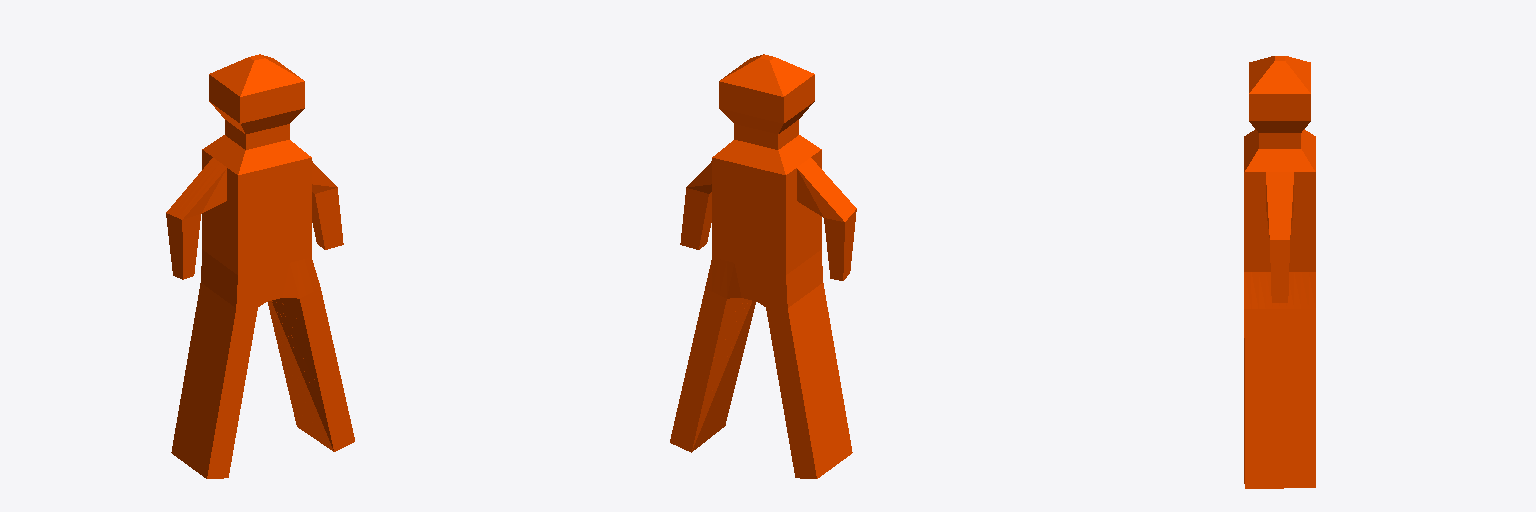
The model's file is HumanMale.obj.
The picture shows the model from 3 angles: view 1: azimuth 30°, elevation 25°; view 2: azimuth 150°, elevation 25°; view 3: azimuth 270°, elevation 25°; orthographic projection.
Visible parts, largest first — view 1: pCube1; view 2: pCube1; view 3: pCube1.
Part boxes in pixels (left/top/right/bottom): pCube1: left=166, top=54, right=354, bottom=478; pCube1: left=670, top=54, right=856, bottom=478; pCube1: left=1244, top=56, right=1315, bottom=488.
Size of the model in its own units: 1.47 by 3.33 by 0.5532.